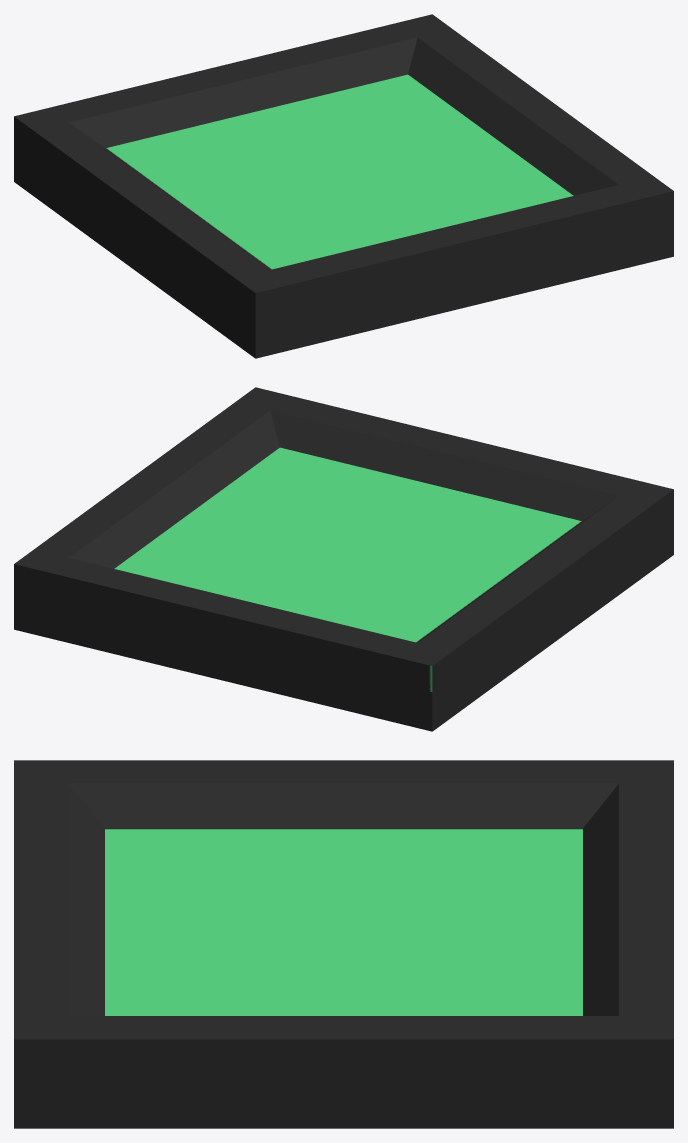
The model's file is Board_1.fbx.
3 views of the same model, one above another, from view 1: azimuth 30°, elevation 25°; view 2: azimuth 150°, elevation 25°; view 3: azimuth 270°, elevation 25° (orthographic). The views are drawn at different scales.
Visible parts, largest first — view 1: Cube; view 2: Cube; view 3: Cube.
Part boxes in pixels (x1,y1,x2,y2): Cube: (14,14,673,358); Cube: (14,387,673,731); Cube: (14,760,673,1128).
Size of the model in its own units: 600 by 89.84 by 600.
1 material, 1 textured.
